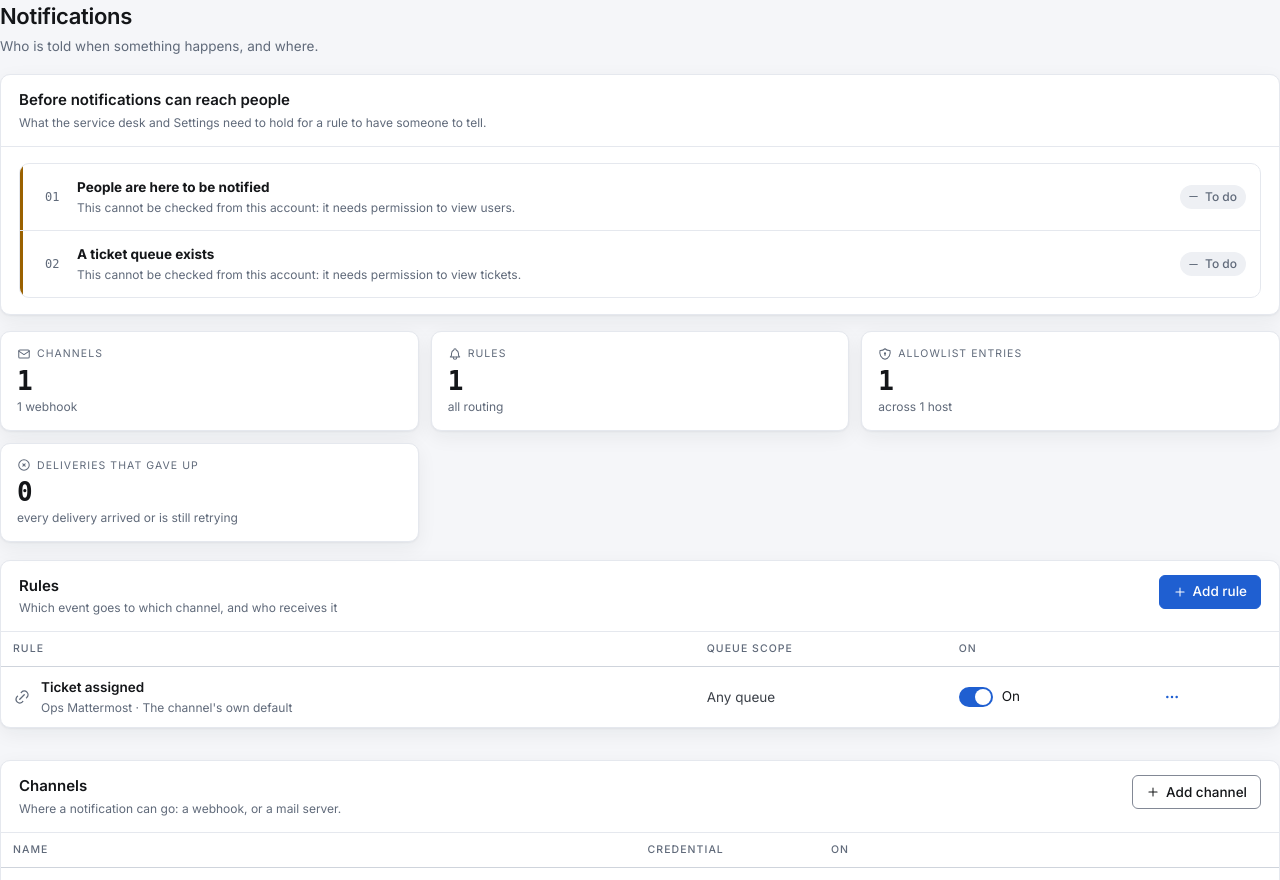
notification channels form › refuses a URL whose scheme deliveries cannot post to
Step 1. Click the button "Add channel" → (1197, 792), box [1132,775,1261,809]
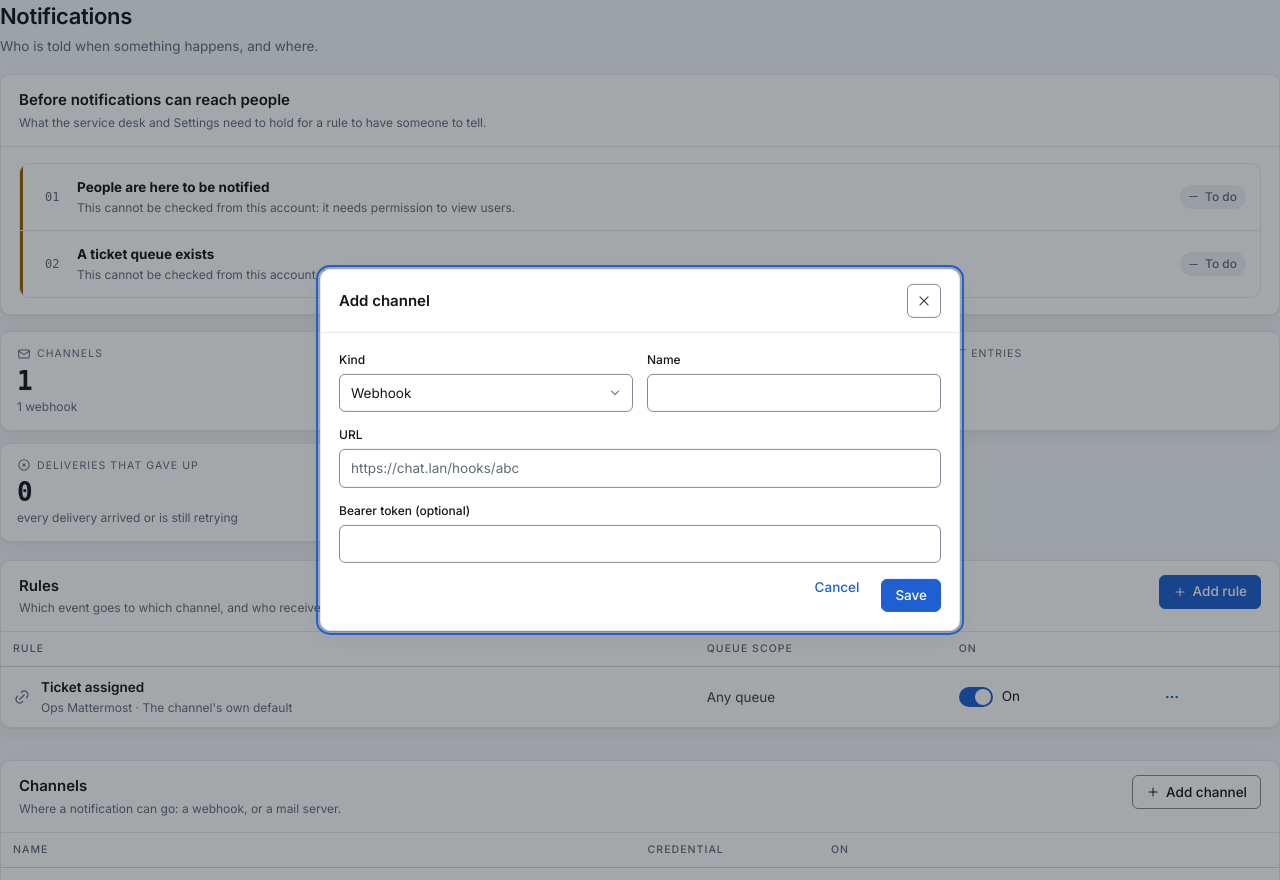
Step 2. Type "Ops chat" into the field labelled "Name" → (794, 393), box [647,374,941,412]
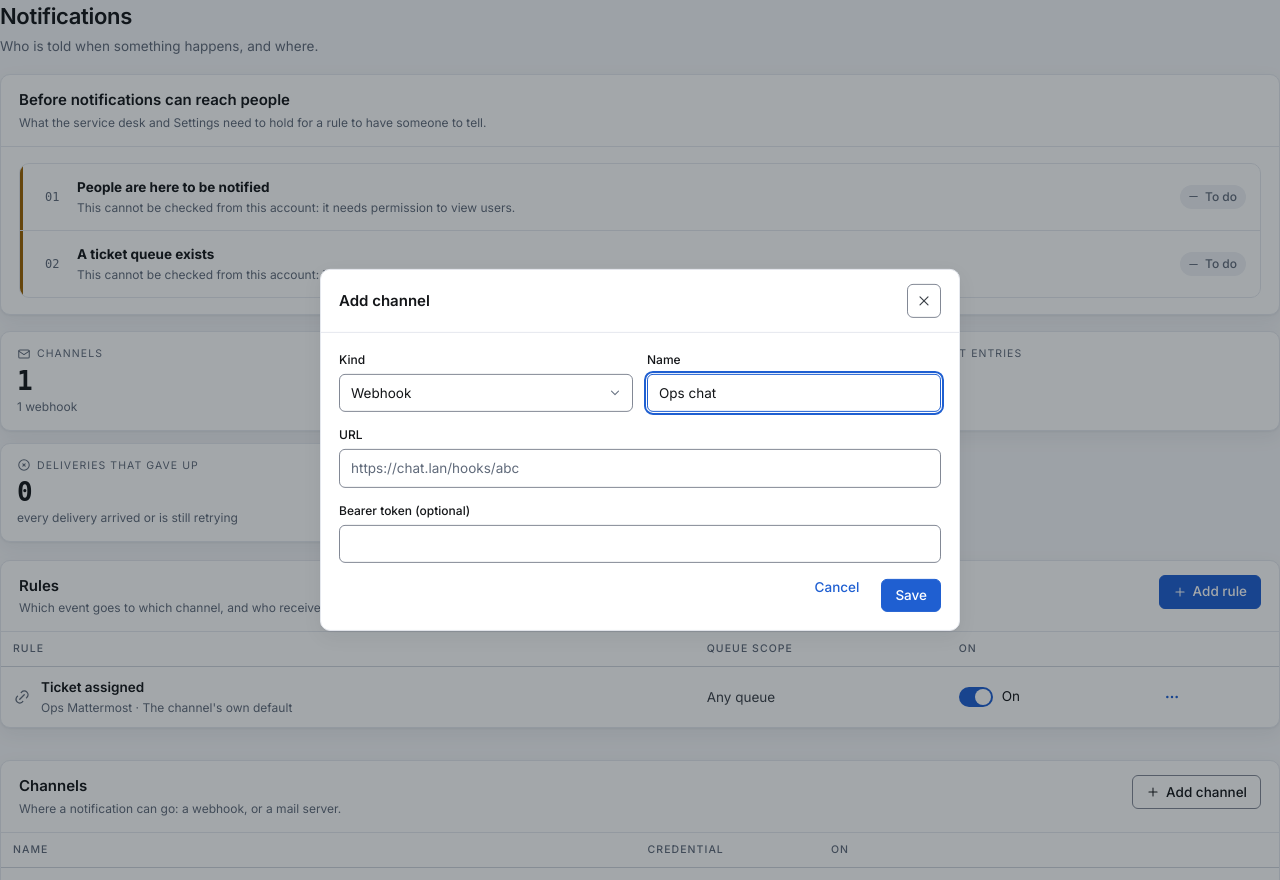
Step 3. Type "ftp://chat.lan/hooks/abc" into the field labelled "URL" → (640, 468), box [339,449,941,487]
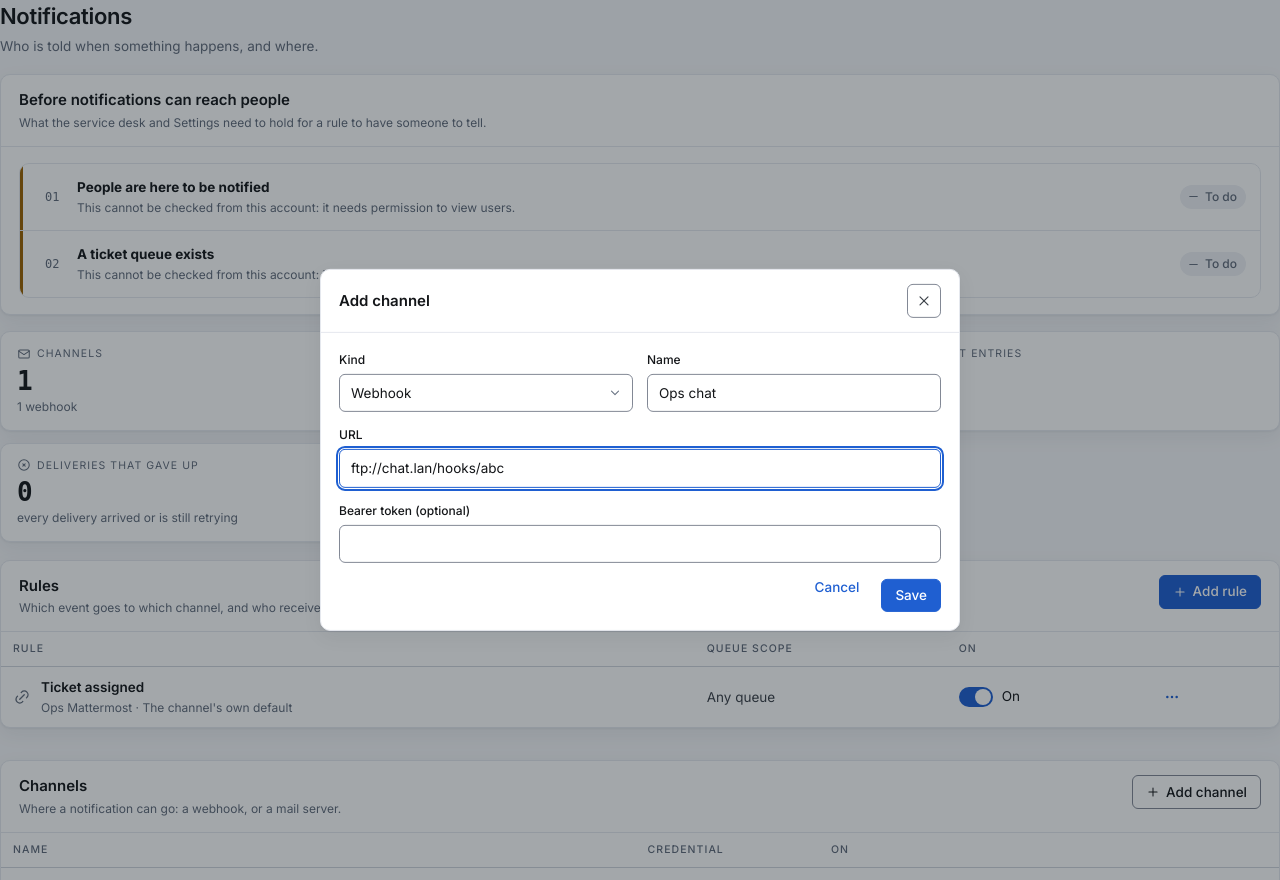
Step 4. Click the button "Save" → (911, 595), box [881,579,941,612]
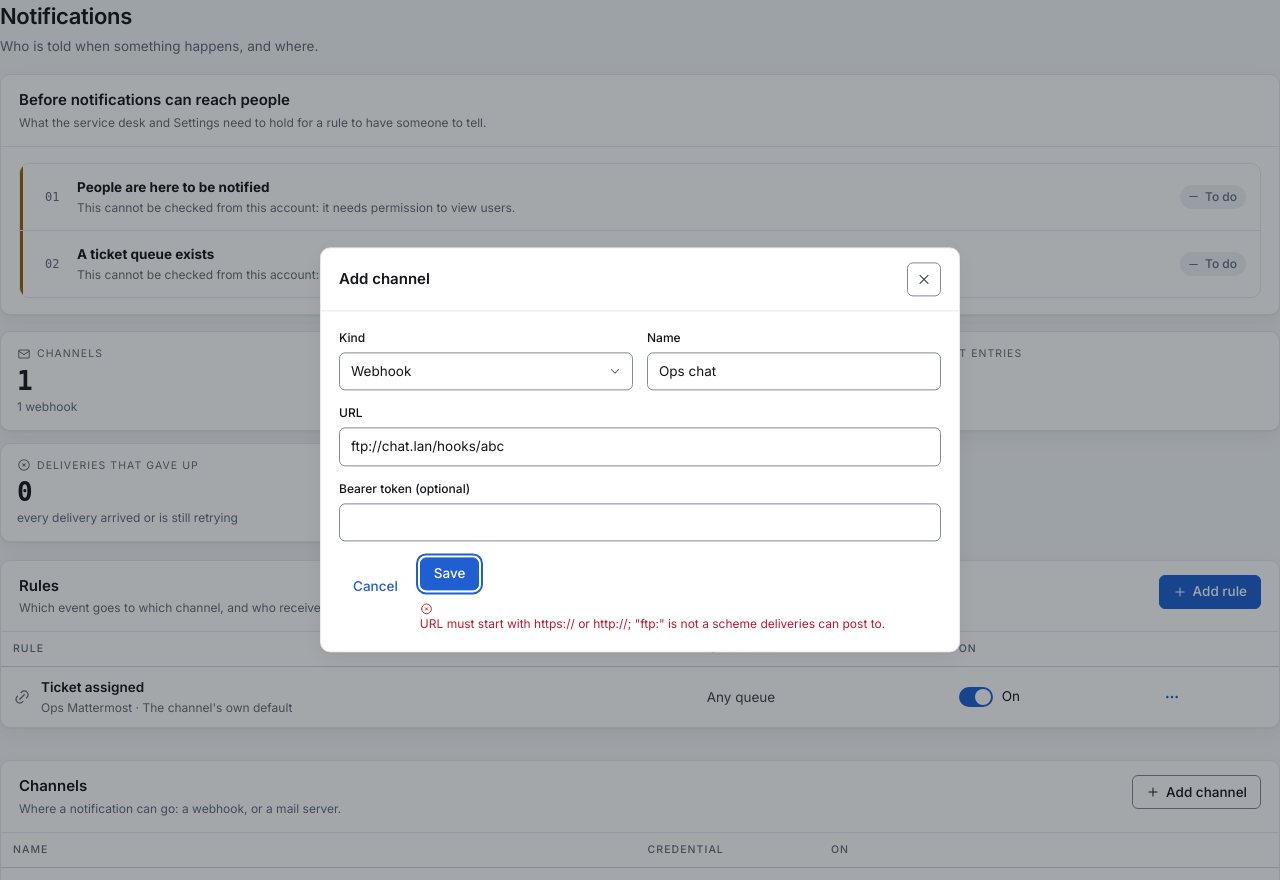
Check: the message shows "must start with https:// or http://", box [420,617,882,632]
